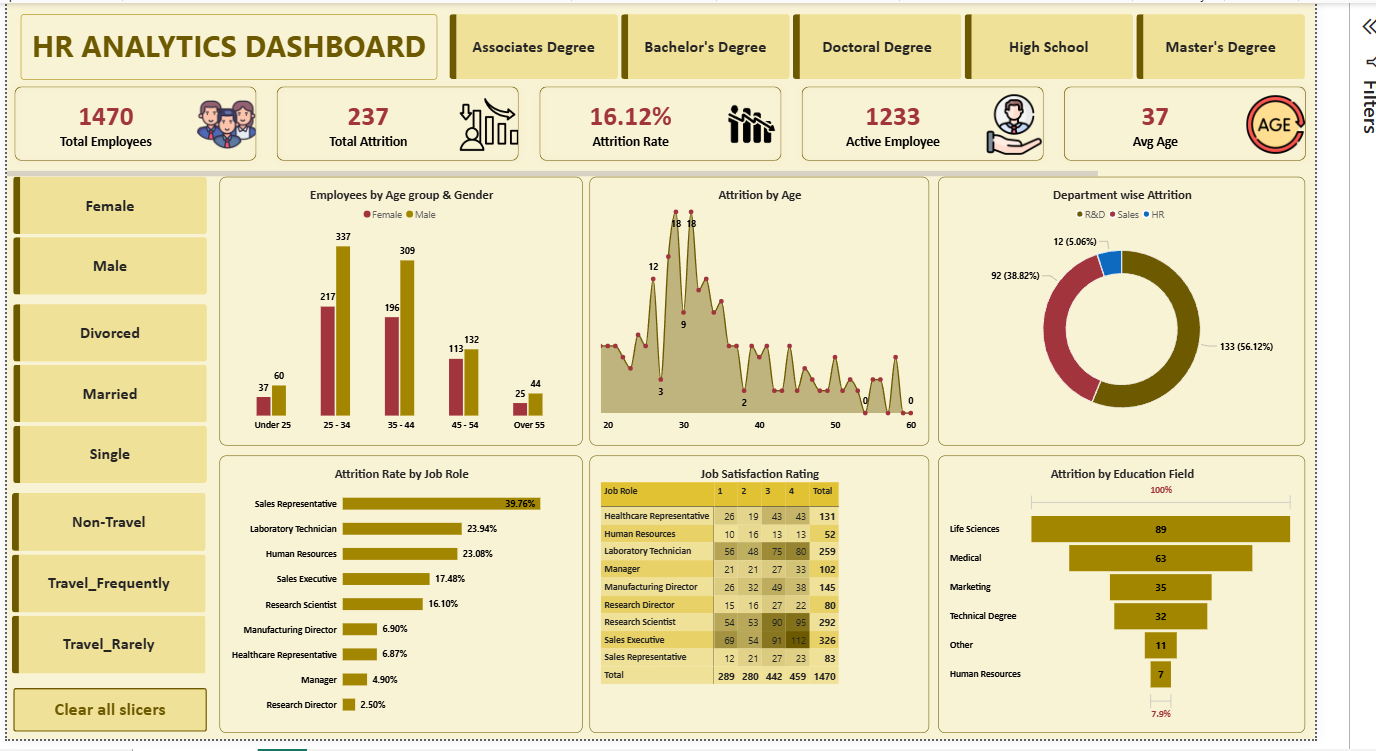

This screenshot's page, from the dashboard's own definition file:
{"tool":"powerbi","page":{"name":"Dashboard","canvas":[1920,1080],"ordinal":0},"visuals":[{"type":"cardVisual","fields":{"Data":["HR data.Total Employees","HR data.Total Attrition","HR data.Attrition Rate","HR data.Active Employee","Avg(HR data.Age)","Avg(HR data.Monthly Income)"]},"box":[0,111.4,1920,144.3],"z":0},{"type":"clusteredColumnChart","title":"Employees by Age group & Gender","fields":{"Category":["HR data.Age Group"],"Series":["HR data.Gender"],"Y":["HR data.Total Employees"]},"box":[311.4,255.7,532.9,394.3],"z":1000},{"type":"areaChart","title":"Attrition by Age","fields":{"Category":["HR data.Age"],"Y":["HR data.Total Attrition"]},"box":[854.3,255.7,498.6,394.3],"z":2000},{"type":"donutChart","title":"Department wise Attrition","fields":{"Category":["HR data.Department"],"Y":["HR data.Total Attrition"]},"box":[1365.7,255.7,538.6,394.3],"z":3000},{"type":"clusteredBarChart","fields":{"Category":["HR data.Job Role"],"Y":["HR data.Attrition Rate"]},"box":[311.4,663.3,532.9,407.1],"z":4000},{"type":"pivotTable","title":"Job Satisfaction Rating","fields":{"Columns":["HR data.Job Satisfaction"],"Rows":["HR data.Job Role"],"Values":["HR data.Total Employees"]},"box":[854.3,663.3,498.6,407.1],"z":5000},{"type":"funnel","title":"Attrition by Education Field","fields":{"Category":["HR data.Education Field"],"Y":["HR data.Total Attrition"]},"box":[1365.7,663.3,538.6,407.1],"z":6000},{"type":"advancedSlicerVisual","fields":{"Values":["HR data.Gender"]},"box":[10,255.7,284.3,174.3],"z":7000},{"type":"advancedSlicerVisual","fields":{"Values":["HR data.Marital Status"]},"box":[10,442.9,284.3,262.9],"z":8000},{"type":"advancedSlicerVisual","fields":{"Values":["HR data.Business Travel"]},"box":[7.1,718.6,284.3,265.7],"z":9000},{"type":"advancedSlicerVisual","fields":{"Values":["HR data.Education"]},"box":[648.6,15.7,1255.7,95.7],"z":10000},{"type":"actionButton","box":[10,1005.7,284.3,64.3],"z":11000},{"type":"textbox","box":[20,15.7,611.4,95.7],"z":12000}]}

Visuals, with their boxes in screenshot pixels (x1, y1, x2, y2):
cardVisual - HR data.Total Employees x HR data.Total Attrition: 0/44/1319/143
"Employees by Age group & Gender" clusteredColumnChart: 214/143/580/414
"Attrition by Age" areaChart: 587/143/930/414
"Department wise Attrition" donutChart: 938/143/1309/414
clusteredBarChart - HR data.Job Role x HR data.Attrition Rate: 214/424/580/703
"Job Satisfaction Rating" pivotTable: 587/424/930/703
"Attrition by Education Field" funnel: 938/424/1309/703
advancedSlicerVisual - HR data.Gender: 7/143/202/263
advancedSlicerVisual - HR data.Marital Status: 7/272/202/453
advancedSlicerVisual - HR data.Business Travel: 5/462/200/644
advancedSlicerVisual - HR data.Education: 446/0/1309/44
actionButton: 7/659/202/703
textbox: 14/0/434/44
